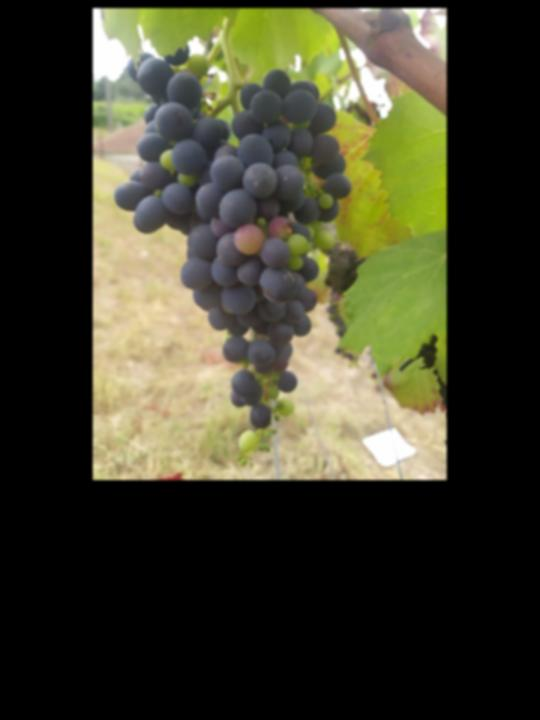grape: (110, 42, 352, 472)
